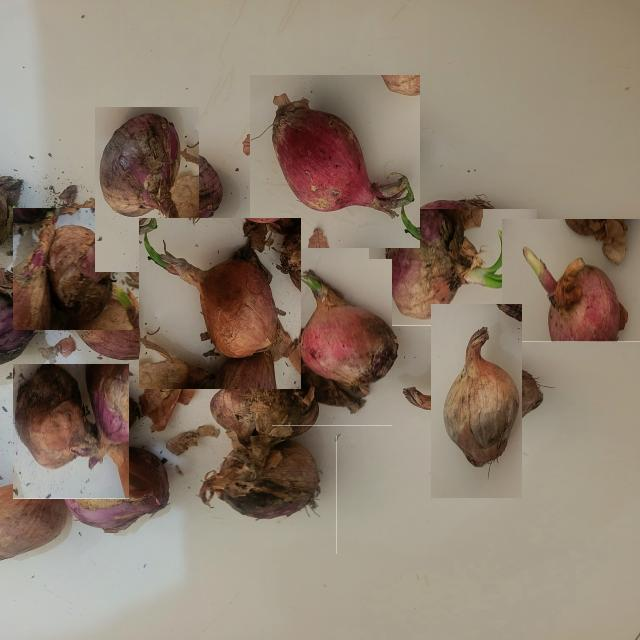healthy: (524, 247, 627, 339)
rotten: (199, 390, 318, 518), (17, 365, 97, 468), (100, 113, 179, 216)
sprouting: (272, 94, 413, 217), (144, 235, 279, 357), (386, 196, 501, 318), (300, 271, 397, 389)
